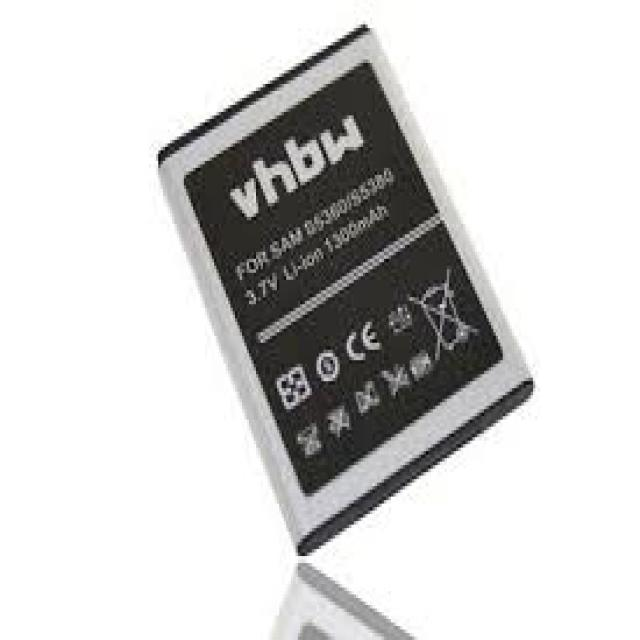hazard: (158, 20, 542, 553)
